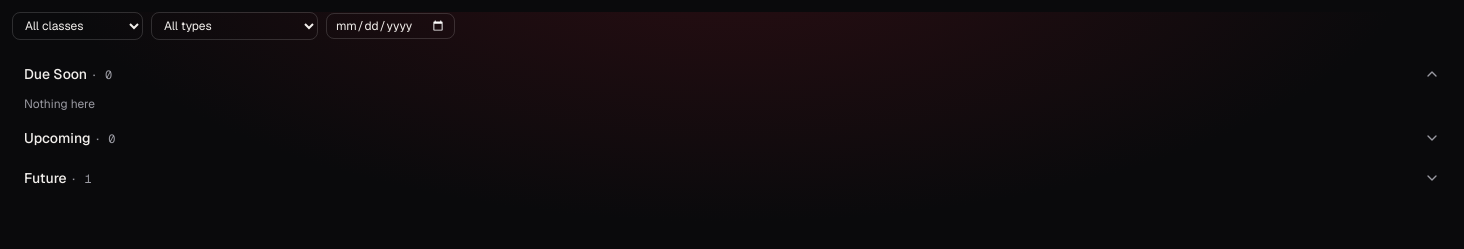
TaskListModule › filtering narrows results without auto-expanding collapsed groups
The width and height of the screenshot is (1464, 249).
Select "Homework/Assignment" in the dropdown named "Filter by type". click: (234, 26)
box: x1=151 y1=12 x2=318 y2=40
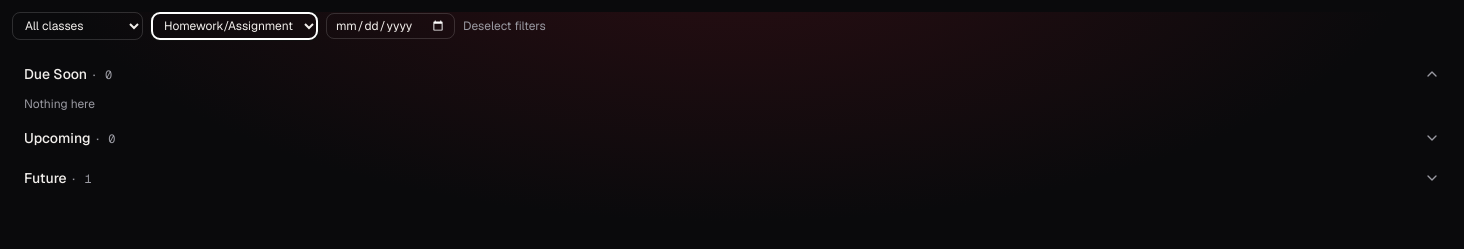
Expected: the text "Future homework" is not shown
Click the button "Future · 1". click: (45, 178)
box: x1=12 y1=160 x2=1452 y2=196
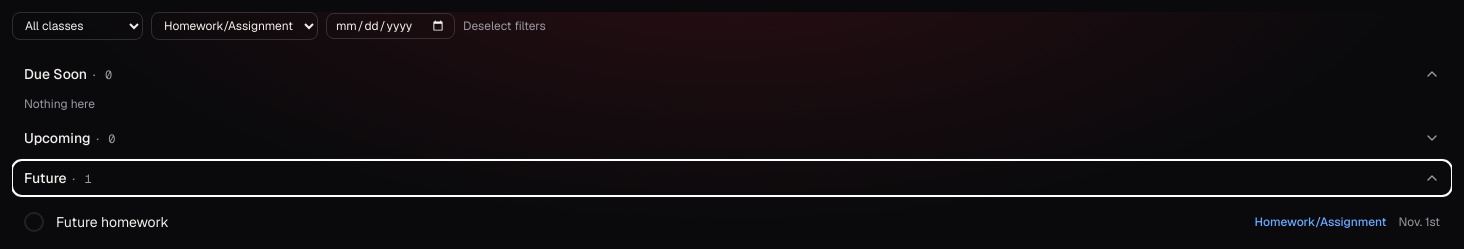
Expected: the text "Future homework" is shown, x1=56 y1=213 x2=169 y2=231
